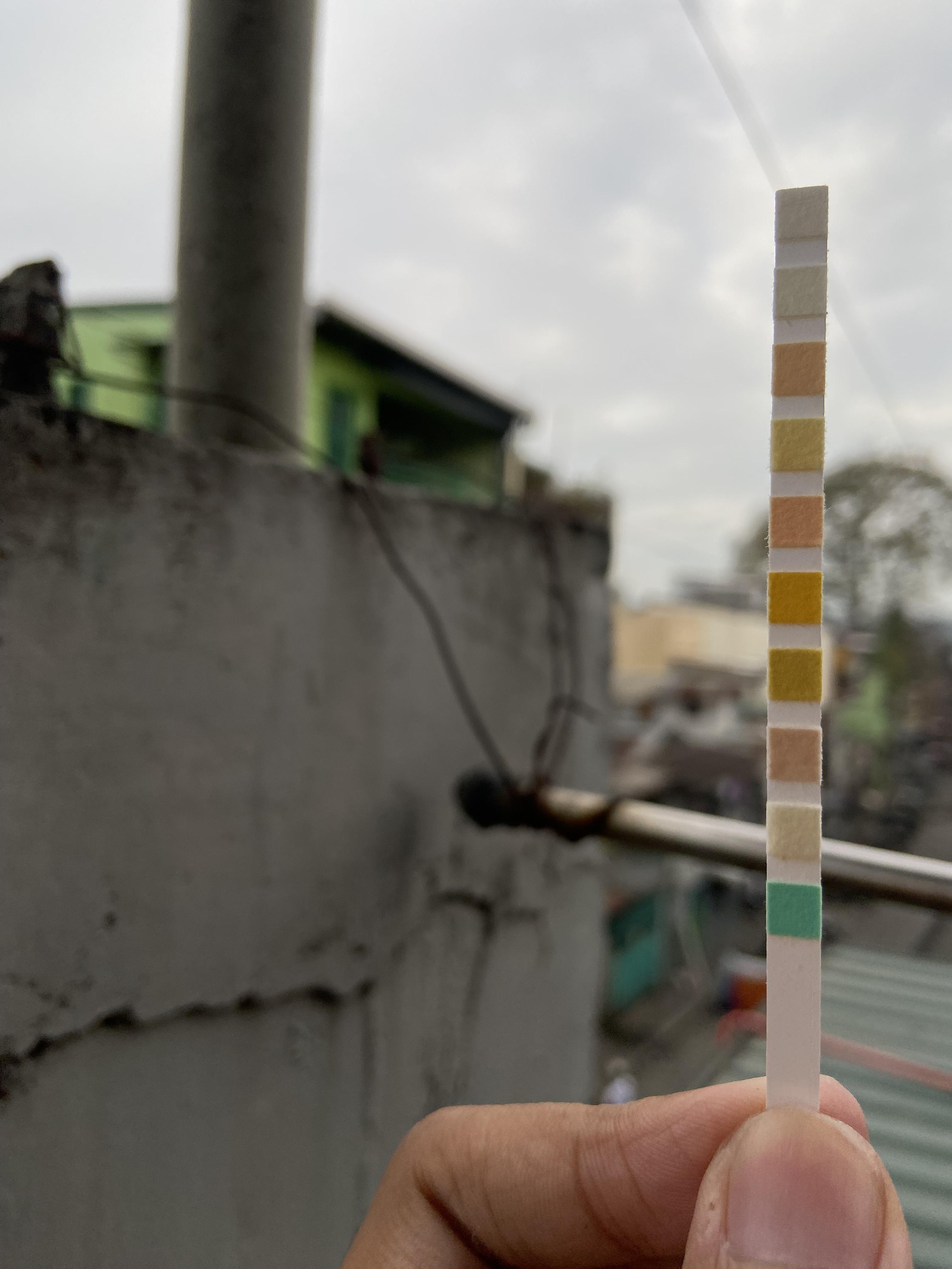Bilirubin: (767, 807, 818, 852)
Blood: (768, 573, 819, 619)
Glucose: (769, 888, 820, 933)
Ketone: (770, 732, 821, 778)
Leukocytes: (776, 190, 827, 235)
Nitrite: (773, 269, 824, 314)
Protein: (772, 423, 823, 468)
SpGravity: (770, 654, 821, 699)
Urobilinogen: (773, 345, 824, 391)
pH: (770, 499, 821, 545)
strip: (767, 185, 828, 1106)
